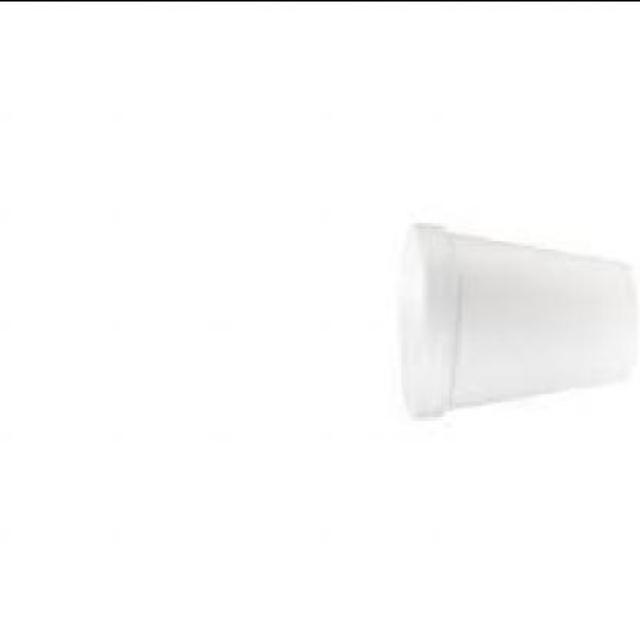PAPER: (402, 222, 623, 416)
